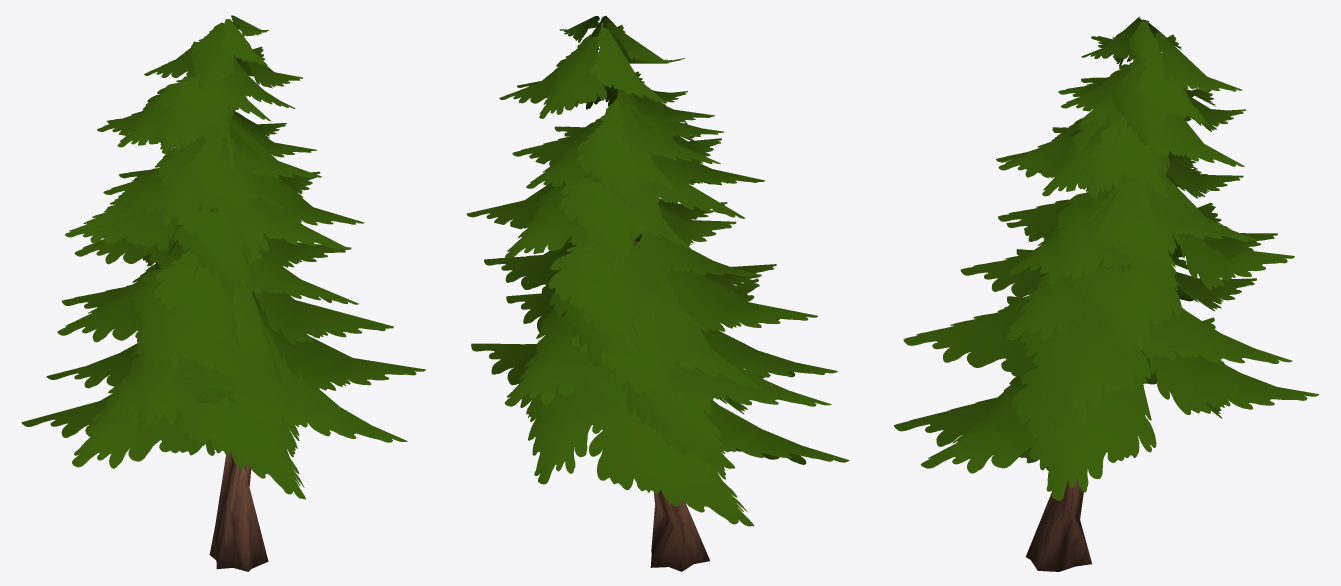
The model's file is Pine_5@lod.gltf.
3 renders of one model, left to right at view 1: azimuth 30°, elevation 25°; view 2: azimuth 150°, elevation 25°; view 3: azimuth 270°, elevation 25°, orthographic. The views are drawn at different scales.
Parts seen in each view (by area): view 1: Pine_5; view 2: Pine_5; view 3: Pine_5.
Boxes of the visible parts, bbox=[...] form: Pine_5: bbox=[21, 15, 425, 571]; Pine_5: bbox=[466, 16, 849, 571]; Pine_5: bbox=[894, 16, 1318, 571].
Size of the model in its own units: 6.42 by 8.72 by 6.22.
Materials: 2 (2 with a texture image).
